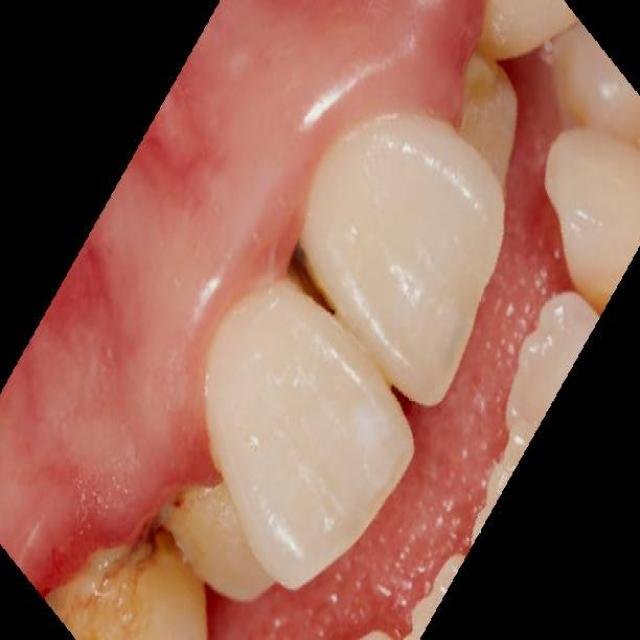caries: (277, 220, 347, 339)
